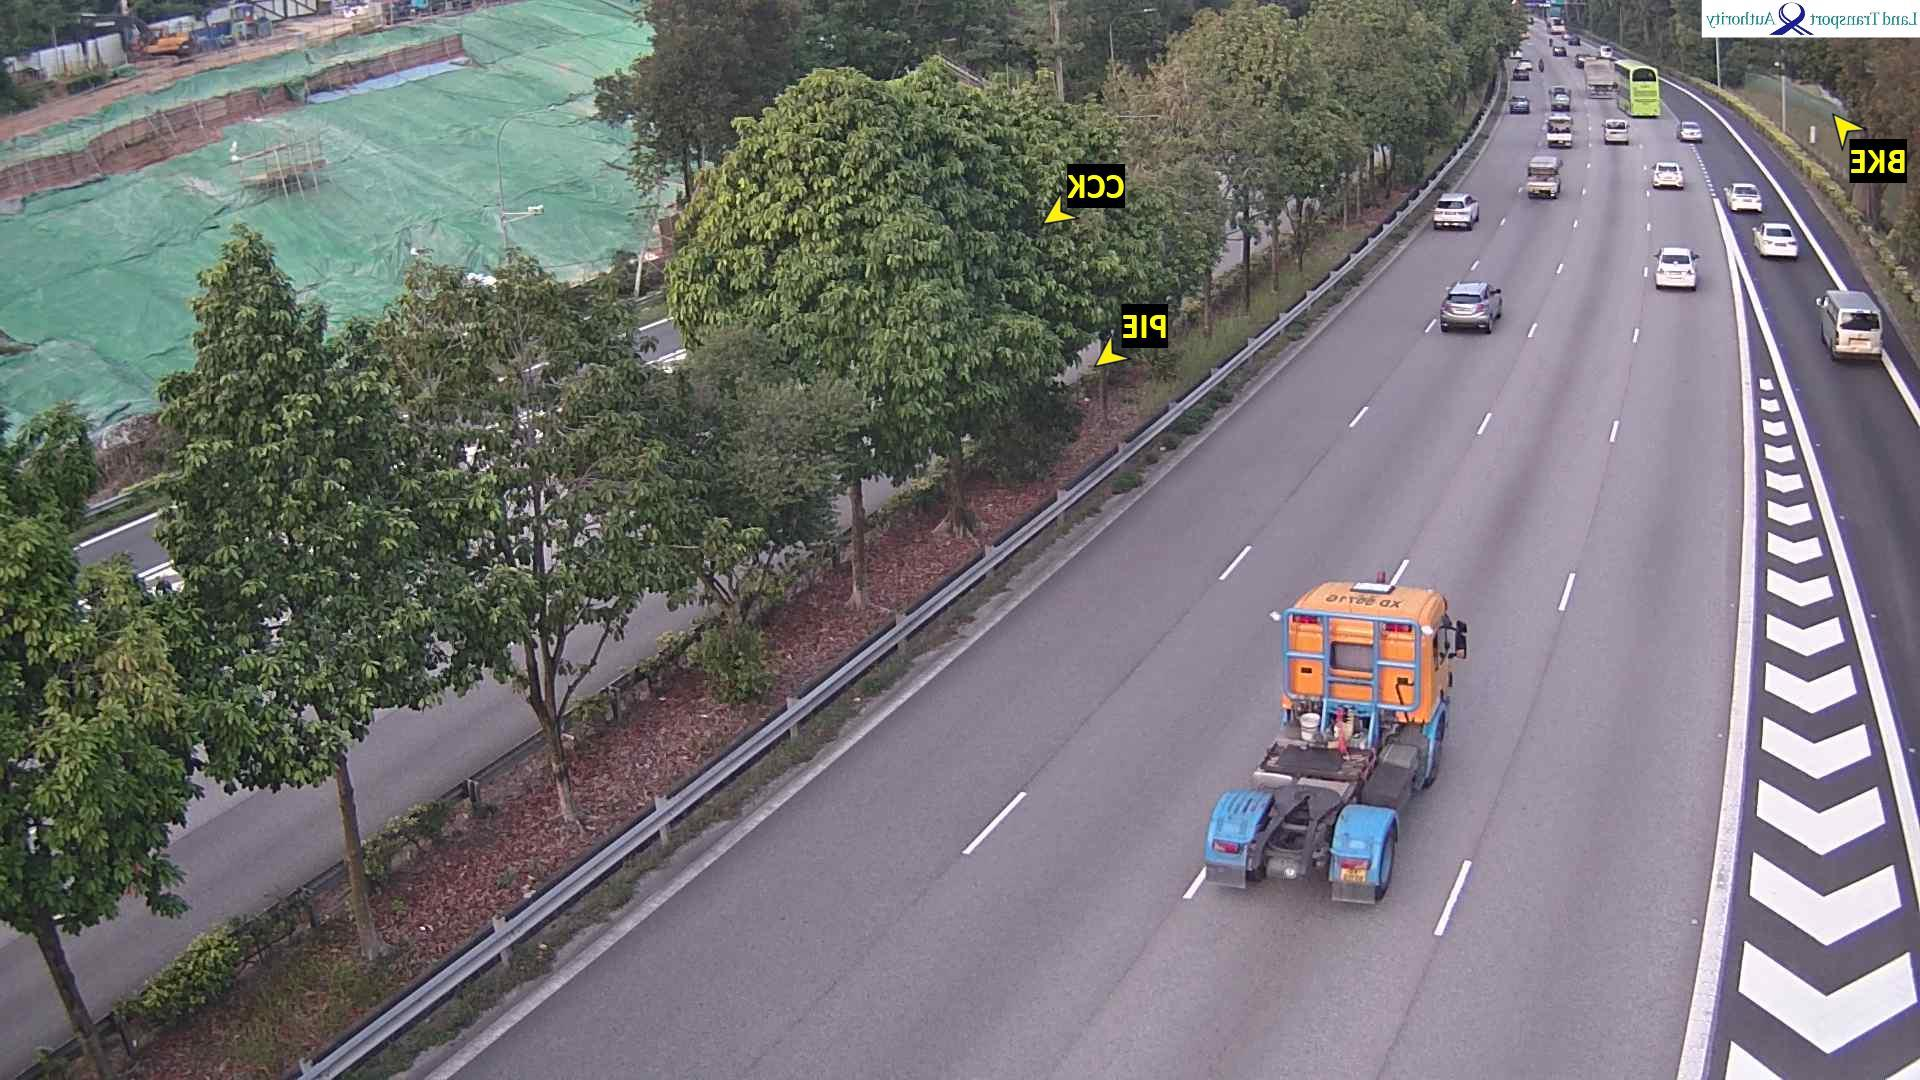bus: (1619, 58, 1660, 119)
cars: (1817, 287, 1884, 361), (1440, 280, 1505, 334), (1655, 245, 1700, 289), (1432, 191, 1481, 229), (1754, 220, 1800, 258), (1527, 154, 1563, 198), (1725, 181, 1764, 214), (1654, 160, 1687, 189), (1545, 113, 1575, 146), (1604, 116, 1633, 144), (1677, 119, 1704, 142), (1549, 84, 1573, 109), (1509, 94, 1532, 113), (1514, 61, 1534, 79), (1549, 16, 1567, 34), (1552, 40, 1569, 55), (1565, 30, 1582, 45), (1600, 44, 1615, 58), (1520, 24, 1534, 40), (1575, 53, 1588, 67), (1510, 46, 1524, 59)
motorcycle: (1538, 55, 1545, 75), (1527, 13, 1534, 24), (1547, 36, 1552, 46)
trucks: (1174, 556, 1469, 898), (1586, 59, 1618, 98)
